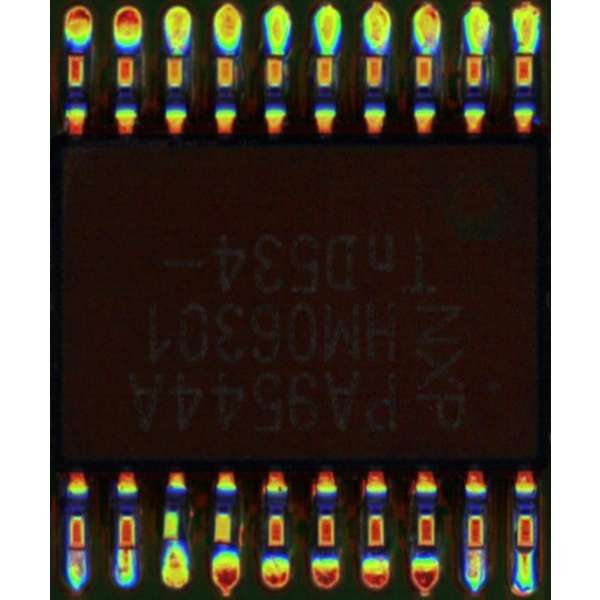Bad_podu: (518, 539, 530, 567), (69, 540, 81, 565), (120, 536, 131, 562), (468, 537, 478, 565)
